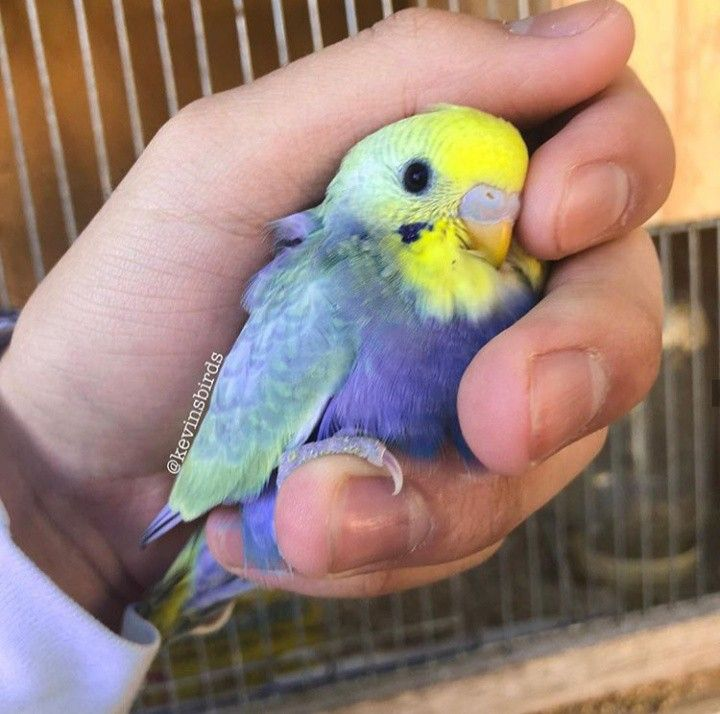budgie: (142, 101, 544, 632)
